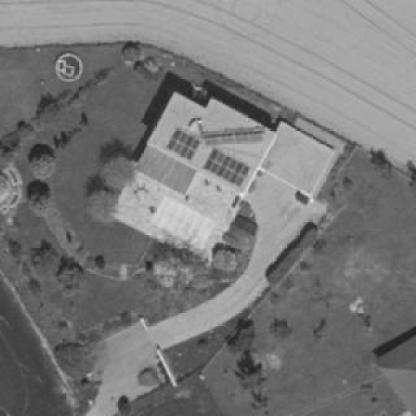solar-pv-panel: (204, 135, 262, 146), (222, 158, 239, 180), (172, 132, 189, 154), (184, 139, 201, 161), (208, 153, 225, 175), (234, 165, 251, 187)
